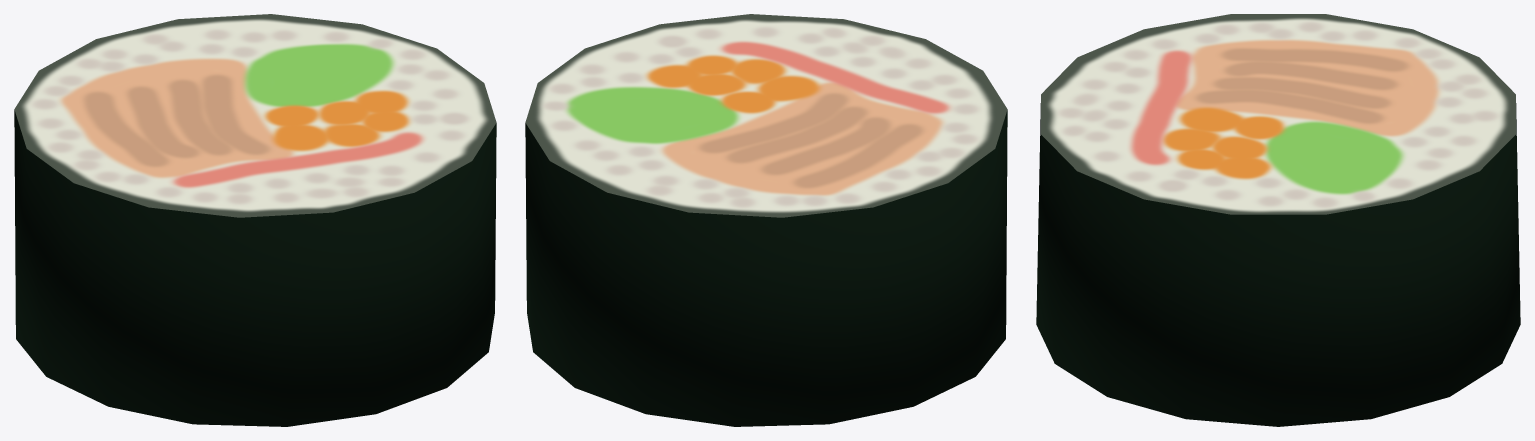
File: sushi.fbx
The picture shows the model from 3 angles, left to right: view 1: azimuth 30°, elevation 25°; view 2: azimuth 150°, elevation 25°; view 3: azimuth 270°, elevation 25°; orthographic projection.
Visible parts, largest first — view 1: Circle; view 2: Circle; view 3: Circle.
Boxes of the visible parts, x1,y1,x2,y2 form: Circle: [14, 14, 496, 426]; Circle: [525, 14, 1007, 426]; Circle: [1036, 14, 1520, 426].
Bounding box in the file's own units: 200 × 95.82 × 200.
